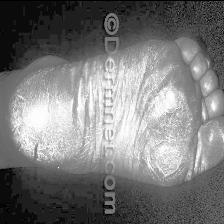Non-Cancerous Skin Condition: (117, 39, 224, 170), (9, 60, 100, 168)
